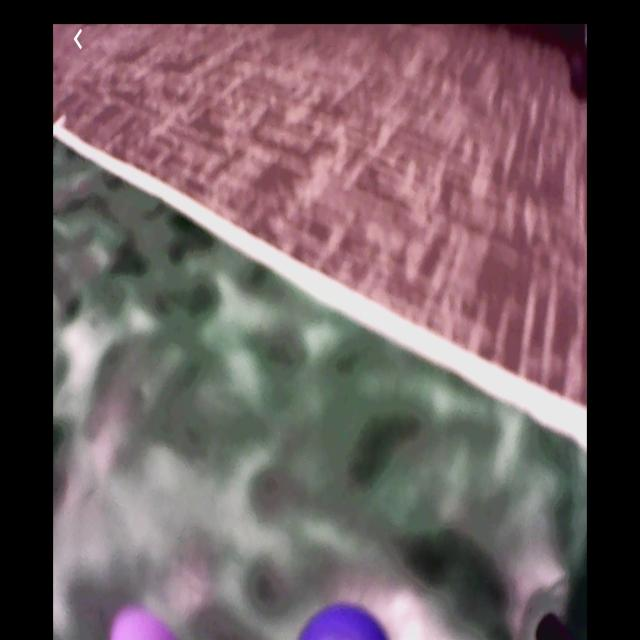ball: (298, 606, 391, 640), (110, 606, 176, 640)
